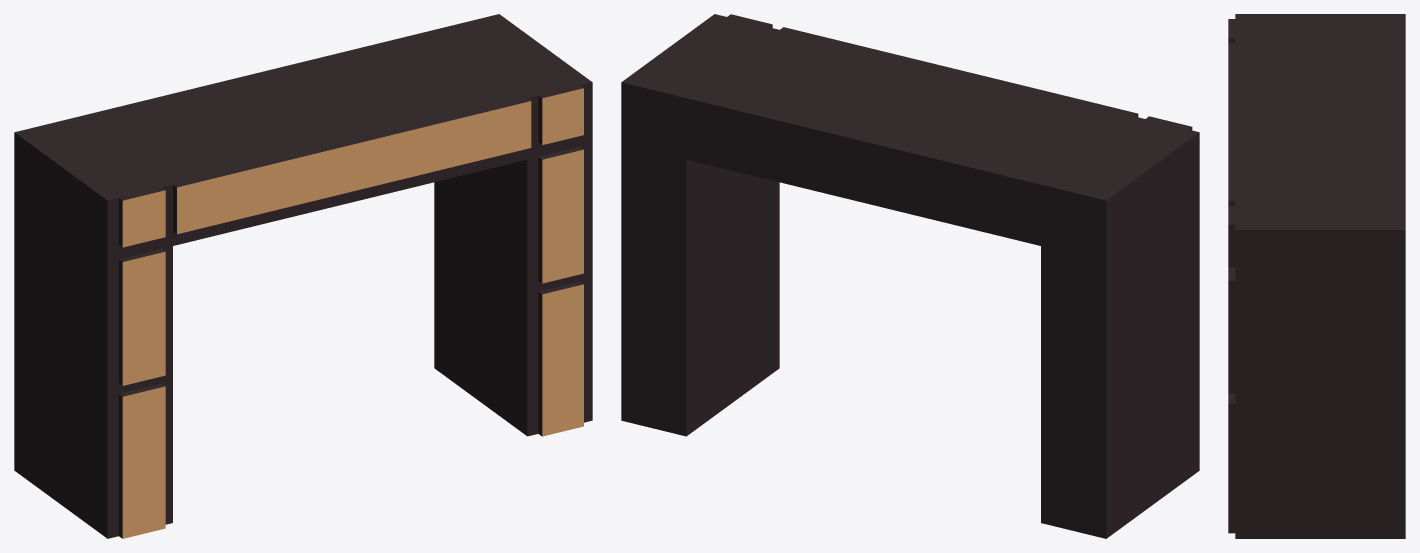
The model's file is batente.glb.
3 views of the same model, side by side, from view 1: azimuth 30°, elevation 25°; view 2: azimuth 150°, elevation 25°; view 3: azimuth 270°, elevation 25° (orthographic). The views are drawn at different scales.
Parts seen in each view (by area): view 1: batente; view 2: batente; view 3: batente.
Boxes of the visible parts, box(x1,y1,x2,y2) form: batente: box(14, 14, 592, 538); batente: box(621, 14, 1199, 538); batente: box(1228, 14, 1405, 538).
Size of the model in its own units: 6 by 4 by 2.08.
